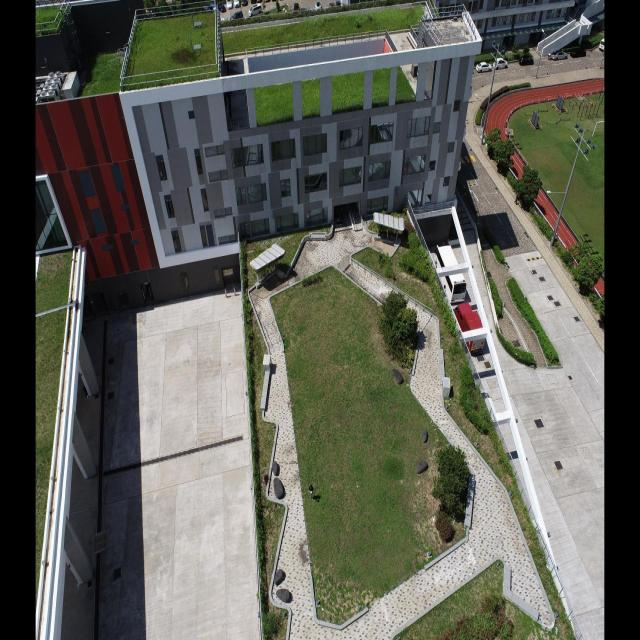p3rson: (308, 484, 314, 500), (514, 194, 518, 205), (547, 53, 551, 61)
